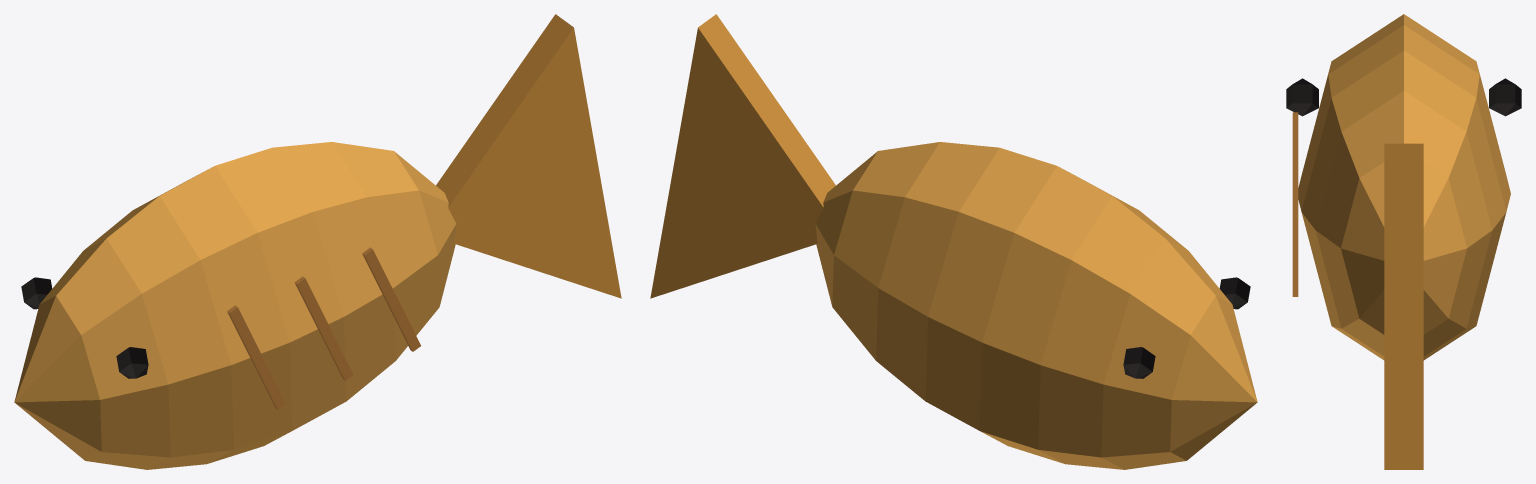
The model's file is Food_Bungeoppang.obj.
3 views of the same model, side by side, from view 1: azimuth 30°, elevation 25°; view 2: azimuth 150°, elevation 25°; view 3: azimuth 270°, elevation 25° (orthographic). The views are drawn at different scales.
Bounding box in the file's own units: 2.62 × 1.49 × 0.8354.
